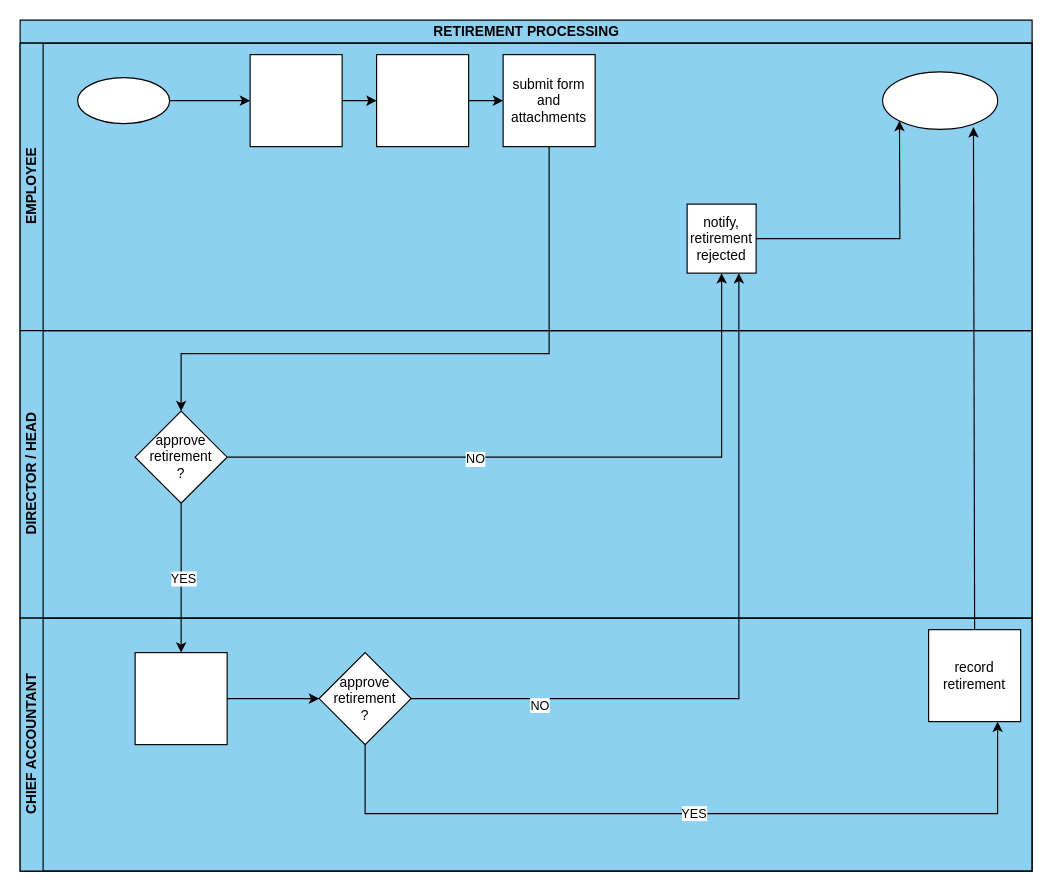
This 1052x891 diagram has some shape labels left out. The centre of each missing label's shape, as x and y in pixels:
"add attachment (back to office report etc)" belongs at point 422,100.
"end" belongs at point 939,100.
"fill retirement form" belongs at point 295,100.
"review retirement" belongs at point 180,698.
"start" belongs at point 123,100.
